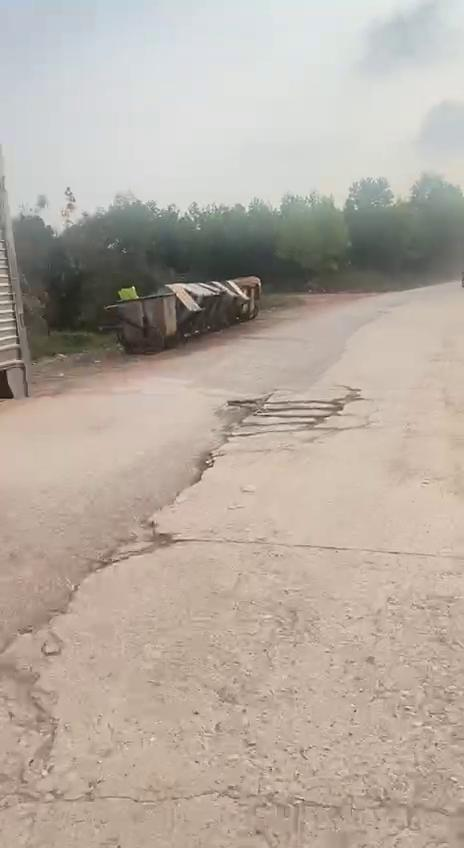pothole: (91, 511, 178, 570)
